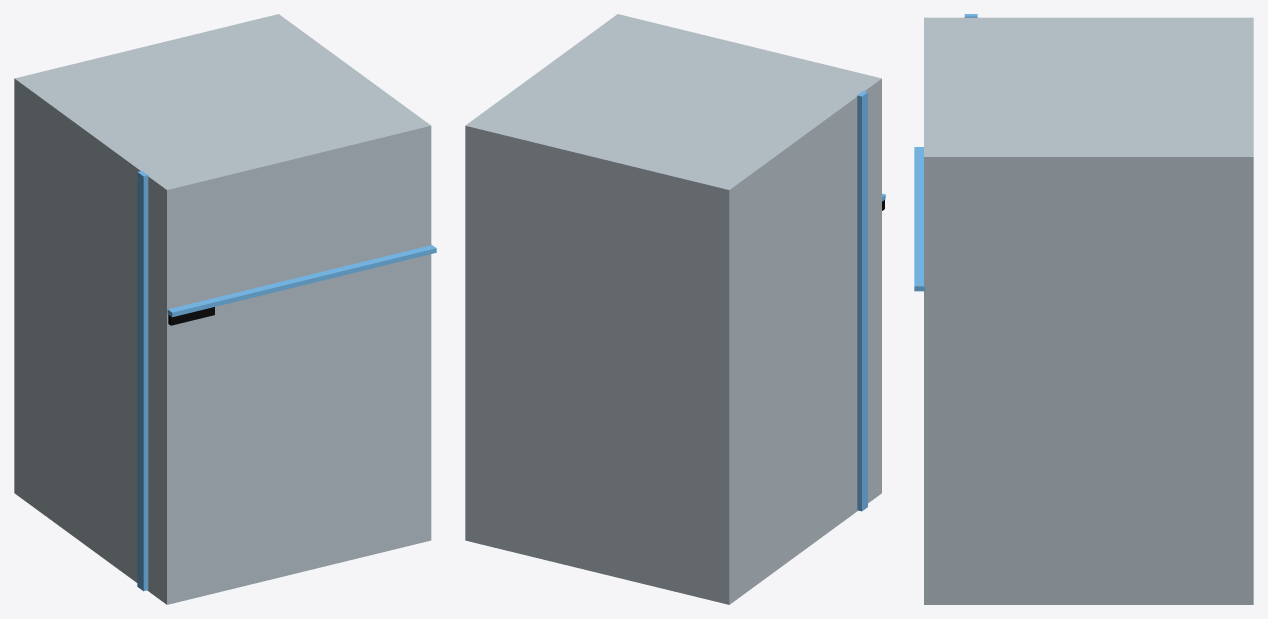
File: REF.FBX
The picture shows the model from 3 angles, left to right: view 1: azimuth 30°, elevation 25°; view 2: azimuth 150°, elevation 25°; view 3: azimuth 270°, elevation 25°; orthographic projection. The views are drawn at different scales.
Parts seen in each view (by area): view 1: Box001, Box006, Box004; view 2: Box001, Box006; view 3: Box001, Box004.
Part boxes in pixels (x1,y1,x2,y2): Box001: (14,14,431,604); Box006: (137,171,148,591); Box004: (167,244,436,317); Box001: (465,14,881,604); Box006: (857,91,867,511); Box001: (924,17,1253,604); Box004: (914,147,925,291).
Size of the model in its own units: 202 by 298 by 204.
